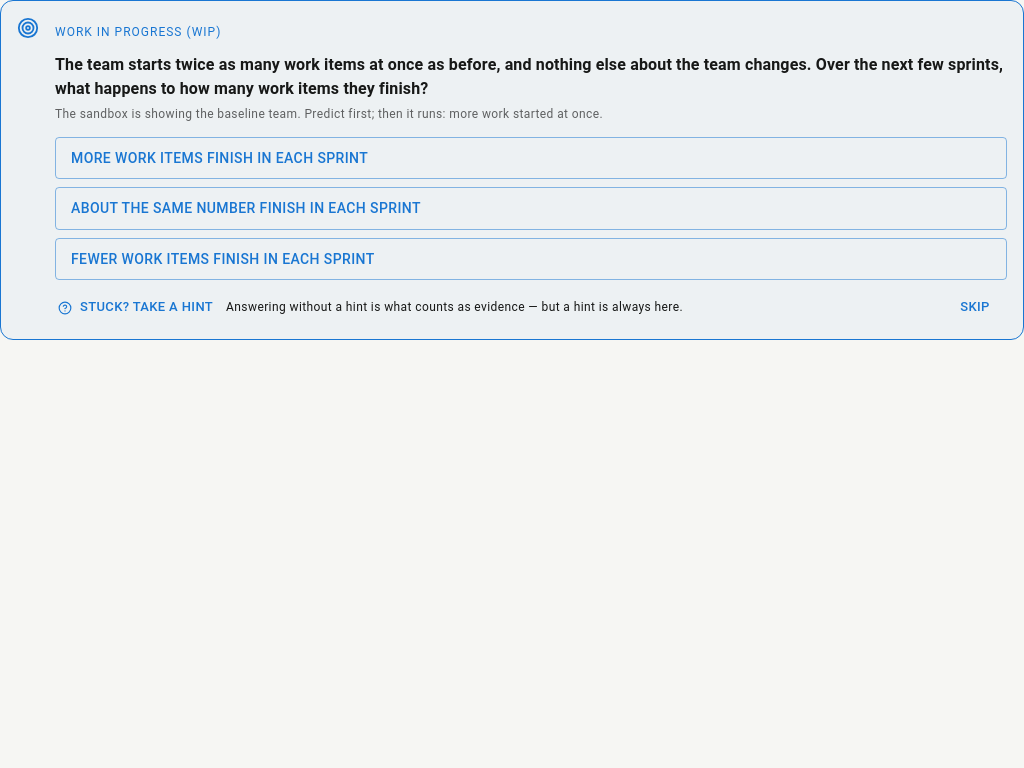
Test: the experiment and the explanation › keeps what the sandbox showed at the moment of commitment, and shows those numbers
Check: the text "What actually happened" is not shown
Click the button "More work items finish in each sprint" at (220, 158), box [55,137,1007,179]
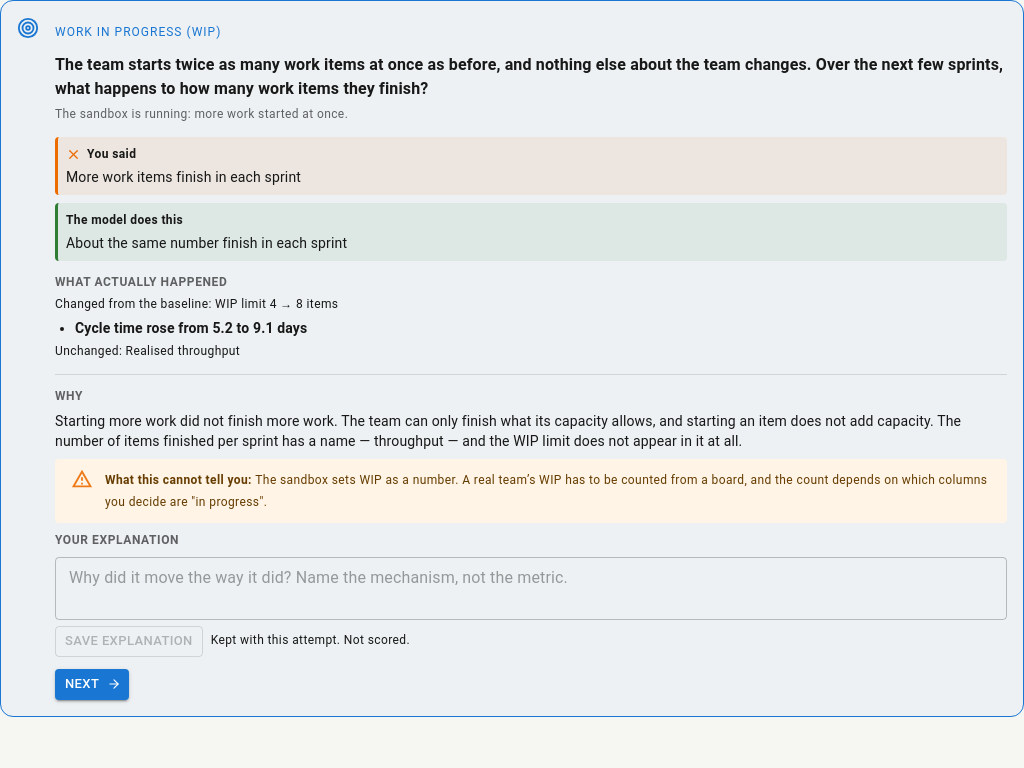
Check: the text "What actually happened" is shown, box [55,275,227,289]
Check: the list item "Cycle time rose from 5.2 to 9.1 days" is shown, box [75,320,307,336]
Check: the text "Unchanged: Realised throughput" is shown, box [55,344,240,358]
